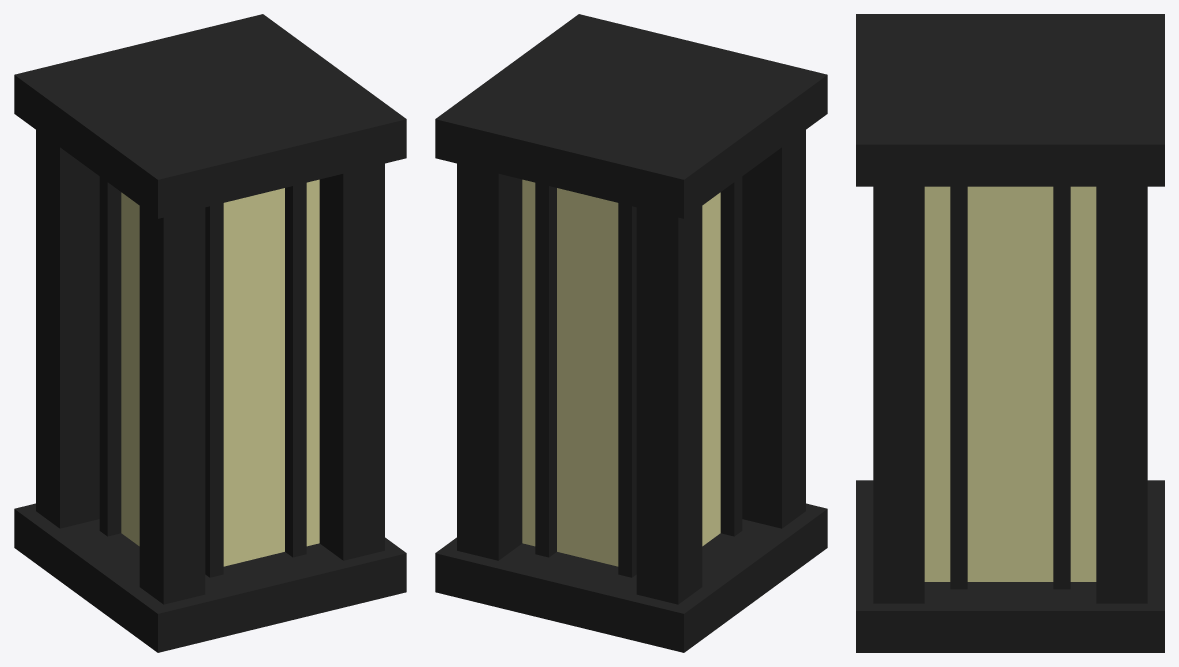
The model's file is Andon.fbx.
The picture shows the model from 3 angles, left to right: view 1: azimuth 30°, elevation 25°; view 2: azimuth 150°, elevation 25°; view 3: azimuth 270°, elevation 25°; orthographic projection. The views are drawn at different scales.
Parts seen in each view (by area): view 1: Cube.002, Cube.001, Cube, Cube.004, Cube.003; view 2: Cube.002, Cube.001, Cube, Cube.004, Cube.003; view 3: Cube.002, Cube, Cube.001, Cube.003.
Boxes of the visible parts, box(x1,y1,x2,y2) form: Cube.002: box(14, 14, 406, 652); Cube.001: box(36, 130, 384, 604); Cube: box(121, 179, 319, 566); Cube.004: box(205, 182, 306, 577); Cube.003: box(99, 176, 121, 536); Cube.002: box(435, 14, 827, 652); Cube.001: box(457, 130, 805, 604); Cube: box(522, 179, 720, 566); Cube.004: box(535, 182, 636, 577); Cube.003: box(720, 176, 742, 536); Cube.002: box(856, 14, 1164, 652); Cube: box(924, 186, 1096, 581); Cube.001: box(873, 186, 1147, 603); Cube.003: box(950, 186, 1070, 589).
Bounding box in the file's own units: 144 × 262 × 144.
